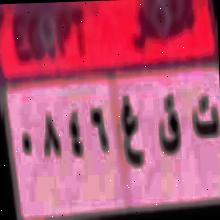0: (16, 120, 38, 170)
4: (68, 106, 86, 170)
6: (89, 102, 110, 168)
8: (40, 111, 64, 169)
ghayn: (120, 90, 145, 175)
qaaf: (153, 88, 183, 166)
taa: (190, 91, 220, 145)
